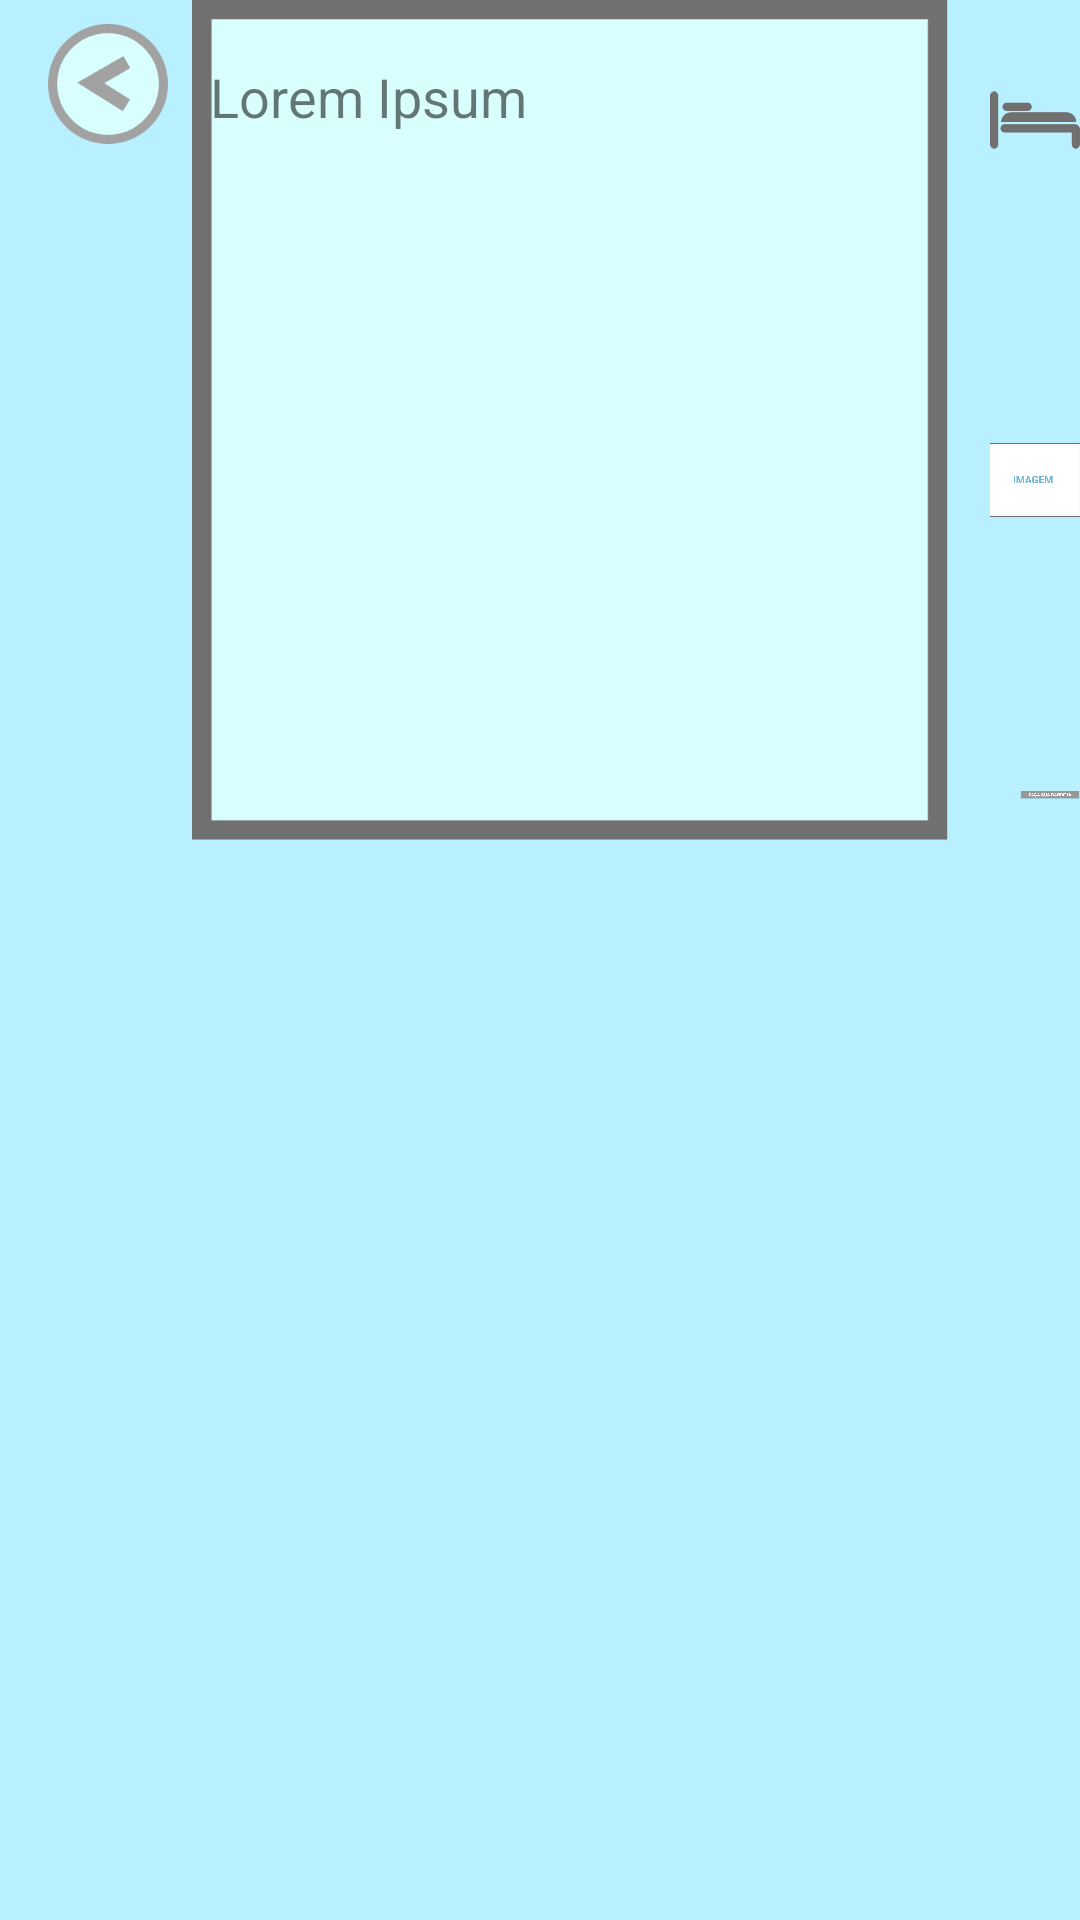

Icon click points for this 1080×1920 phone screenshot, format (x,y):
cama: (1035,120)
voltar: (108,84)
